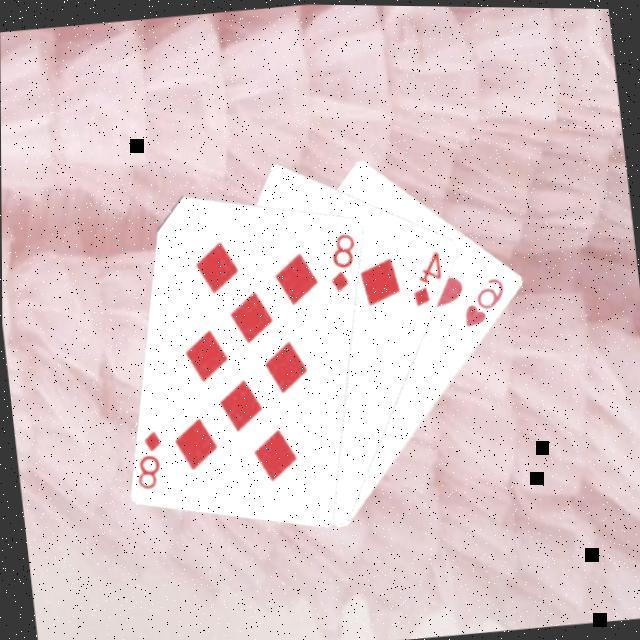4D: (403, 244, 446, 308)
6H: (455, 270, 508, 328)
8D: (126, 424, 168, 492), (320, 226, 361, 294)
